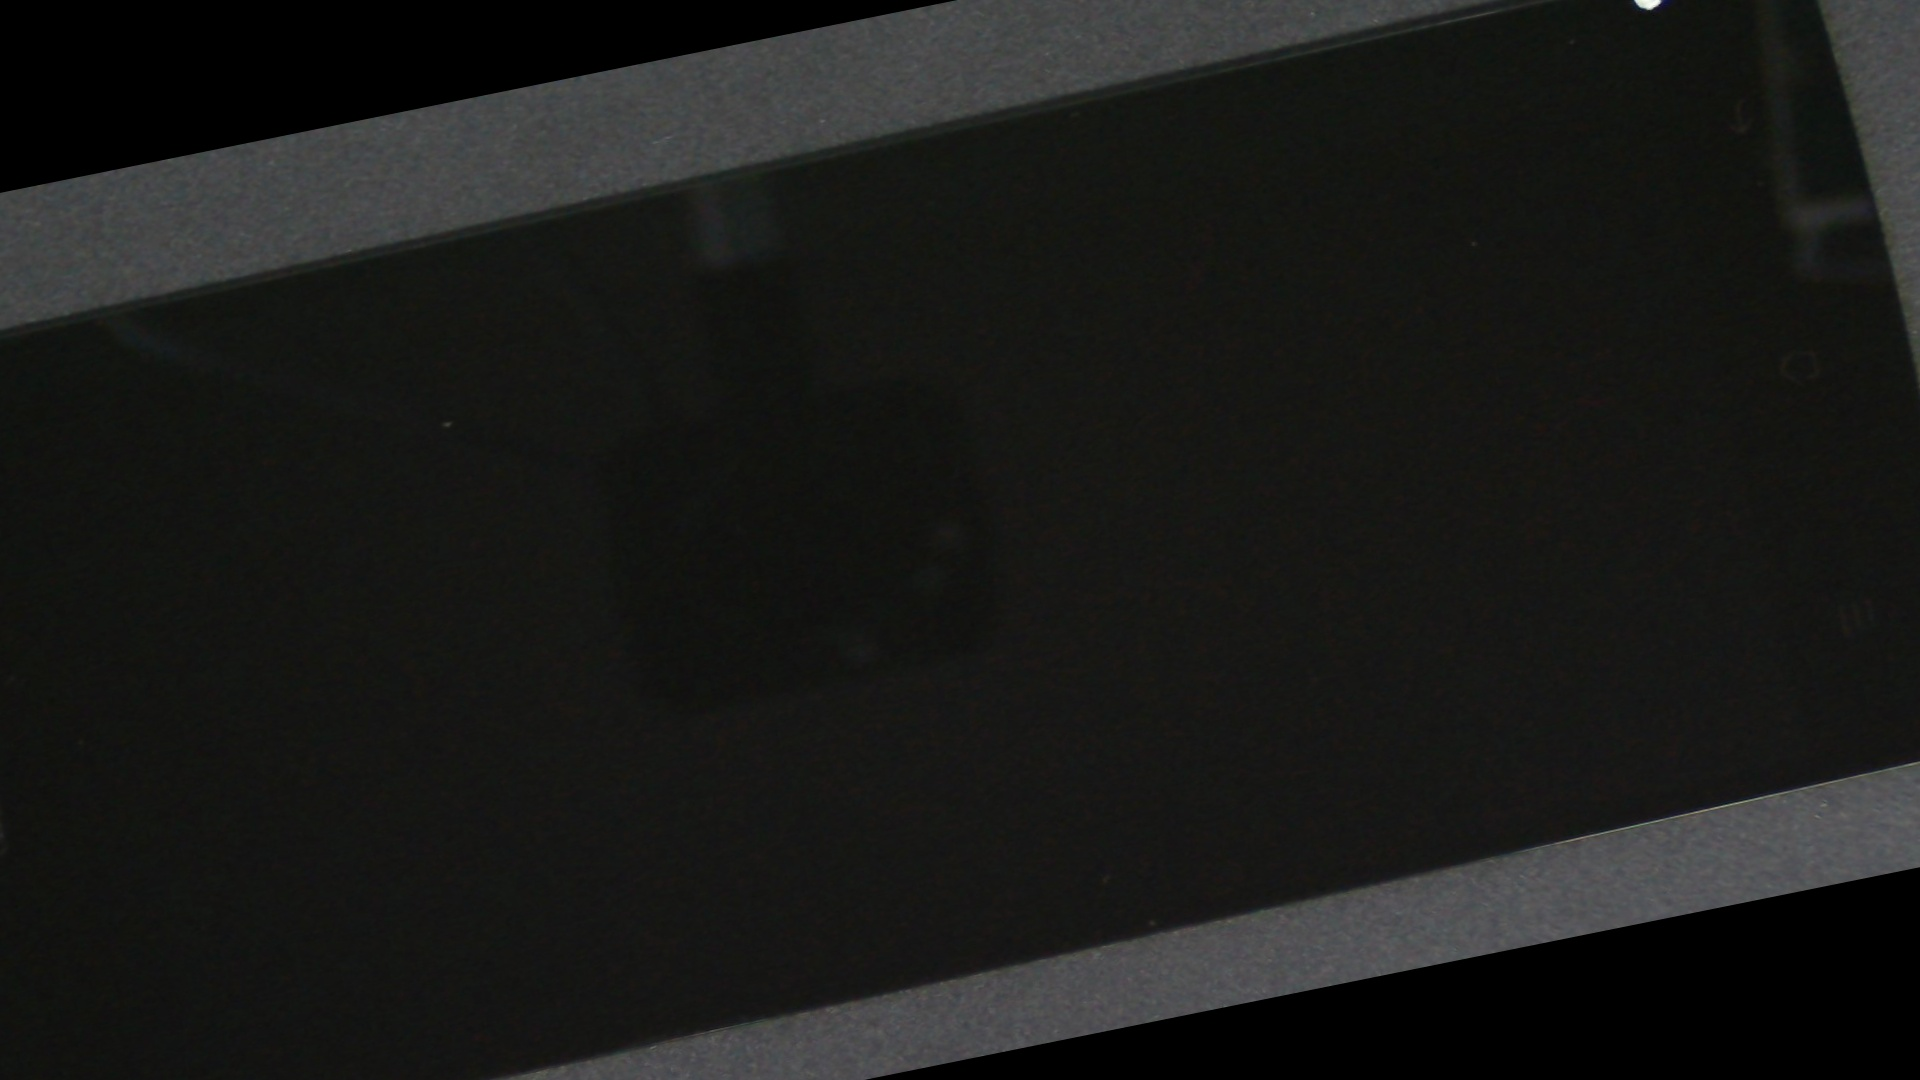oil: (649, 0, 1920, 240)
